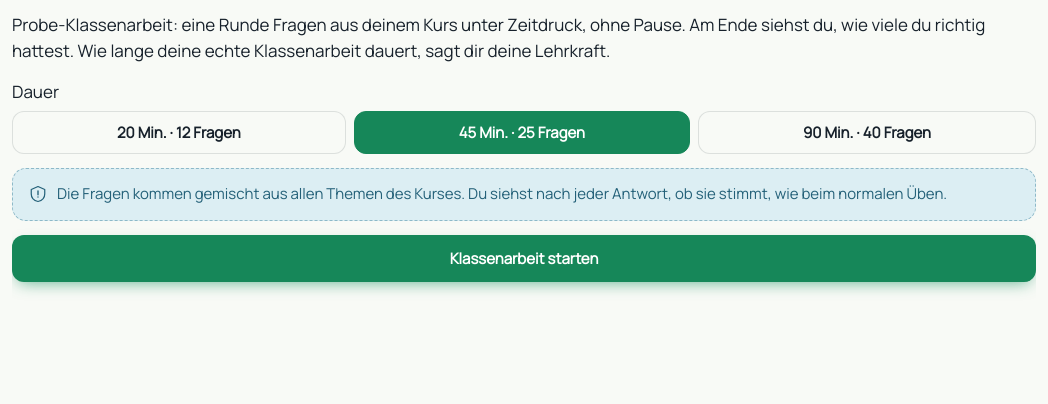
Test: Klassenarbeit (Review UXT-I-10, Probe-Klassenarbeit für Schulkurse) › zählt die Restzeit herunter
Click the button "Klassenarbeit starten" at point(524, 258), box [12,234,1036,282]
Wait 65000 ms
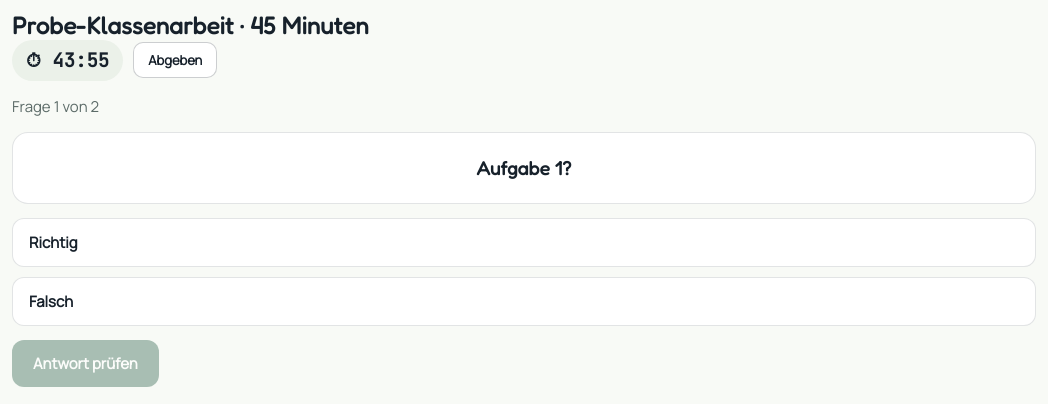
expect the text "⏱ 43:55" is shown: met, box [12,40,123,81]
